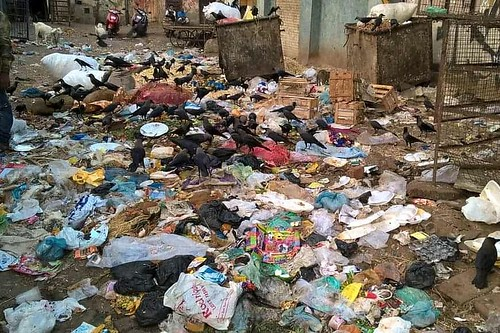animal: (467, 238, 500, 286), (293, 118, 326, 152), (271, 98, 304, 125), (125, 137, 146, 170), (191, 145, 212, 178), (69, 53, 94, 71), (87, 70, 108, 89)
trash: (16, 31, 500, 333)
